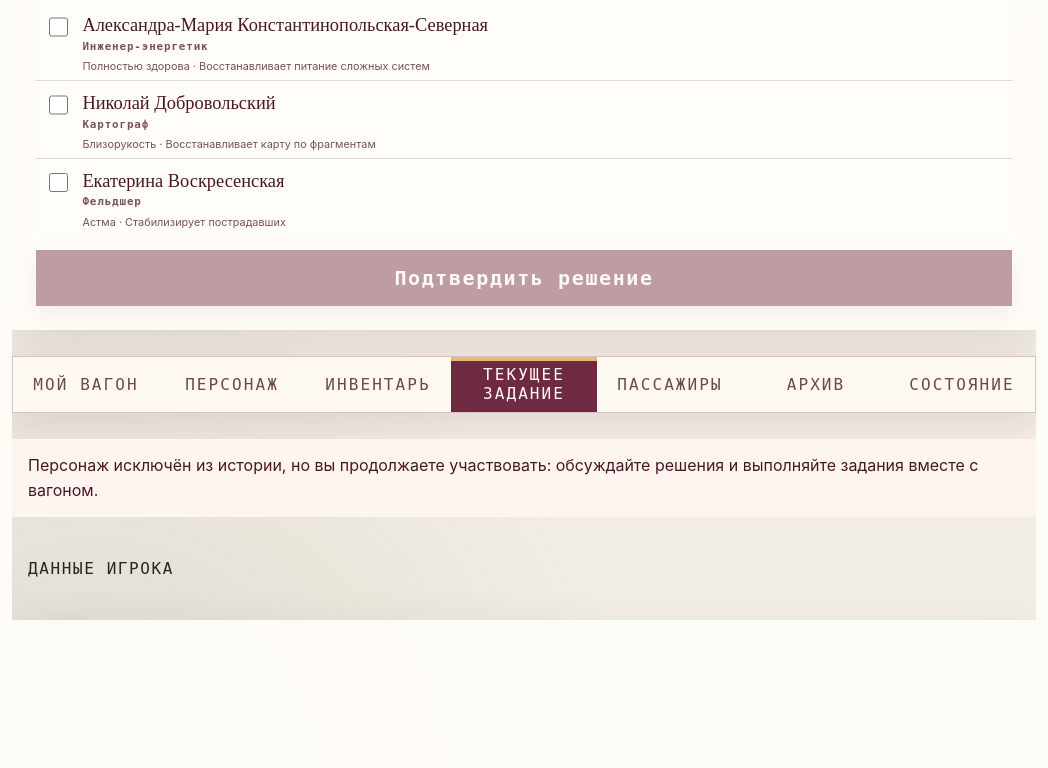
Test case: Mission one dashboard integration › keeps an excluded guest signed in with mission and guest navigation available
(page scrolled)
Expected: the text "Персонаж исключён из истории" is shown, [28,455,978,500]
Click the button "АРХИВ".
click(816, 384)  # box [743,357,889,412]
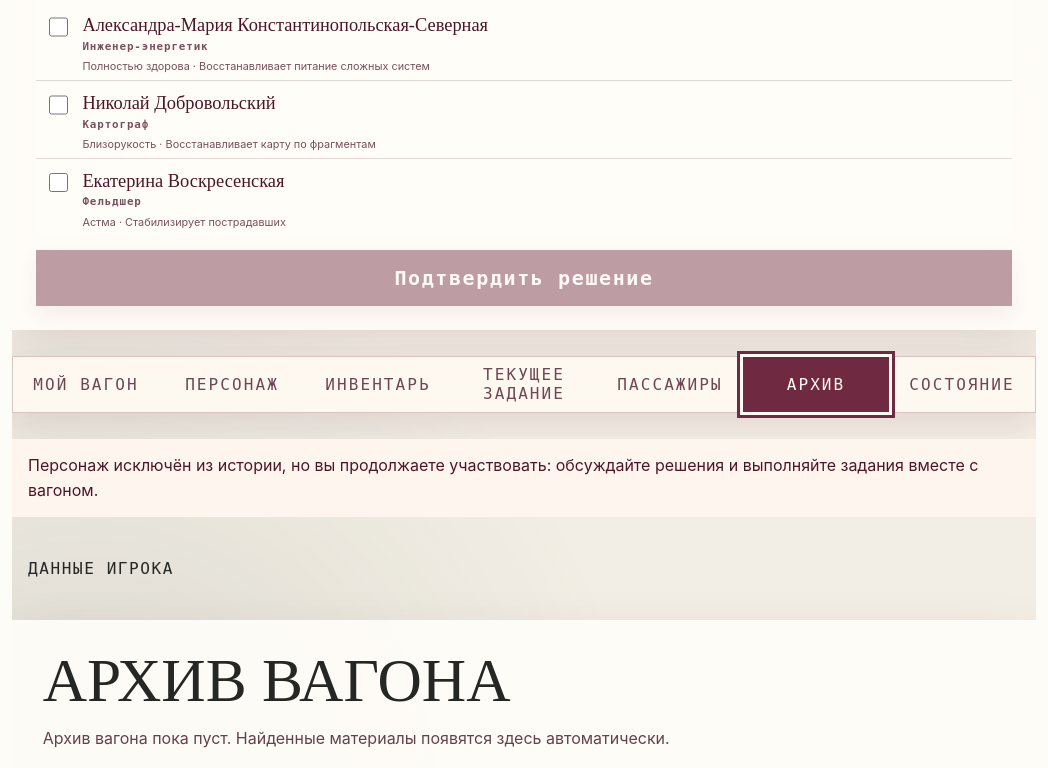
Now the heading "АРХИВ ВАГОНА" is shown, box [43,646,510,714]
